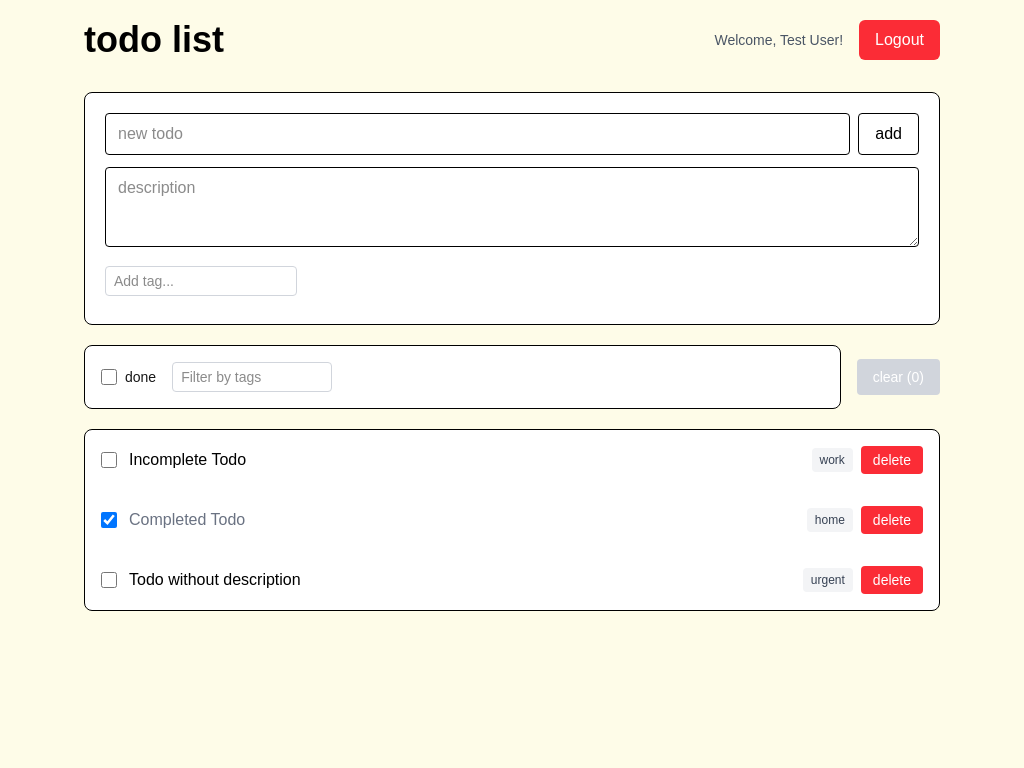
Test: Todo App Main Page › Double-click to edit functionality › should enter edit mode when todo item is double-clicked
The image size is (1024, 768).
Double-click the text "Incomplete Todo": [188, 460] box [129,451,246,468]
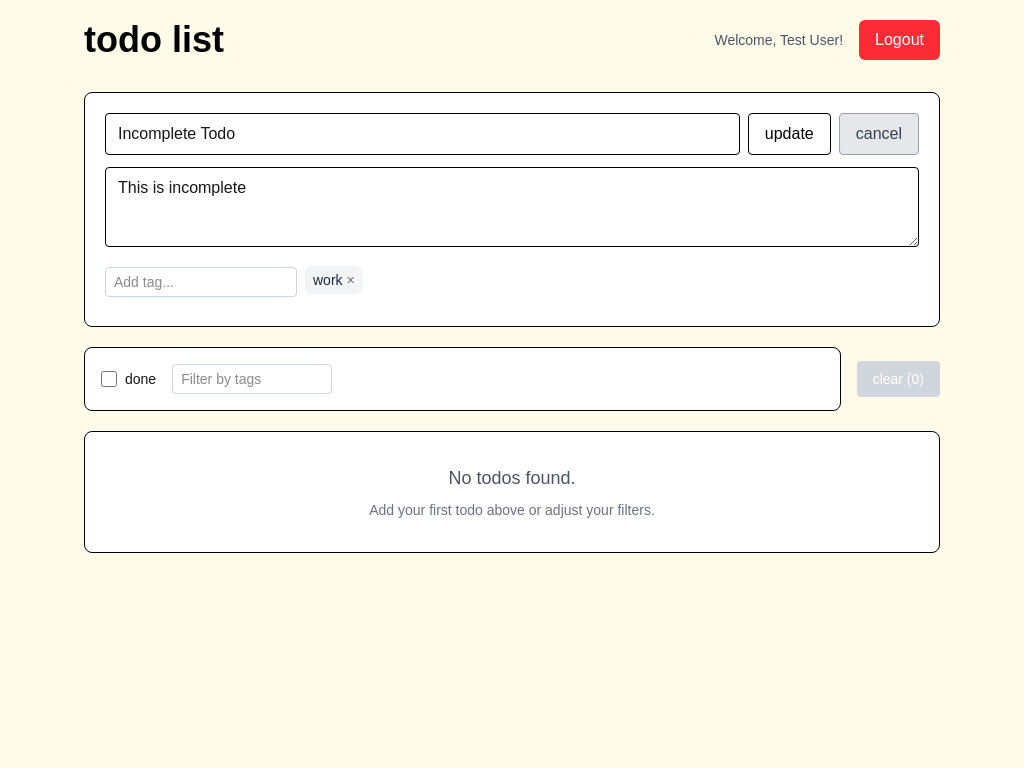
Expected: the button "update" is shown, [748,113,831,155]
